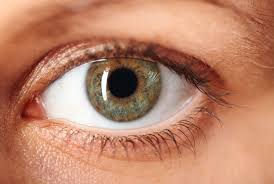pupil: (87, 58, 160, 122)
